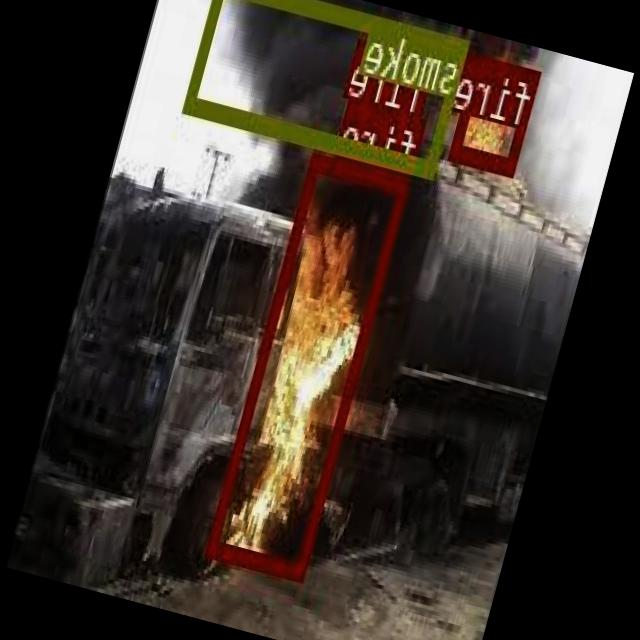fire: (208, 150, 412, 580), (451, 51, 544, 172), (387, 112, 422, 150)
smoke: (185, 0, 471, 177)
